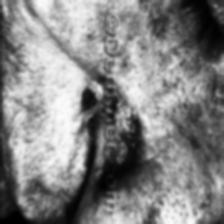Potentially Malignant Skin Tumors: (75, 78, 125, 142)
